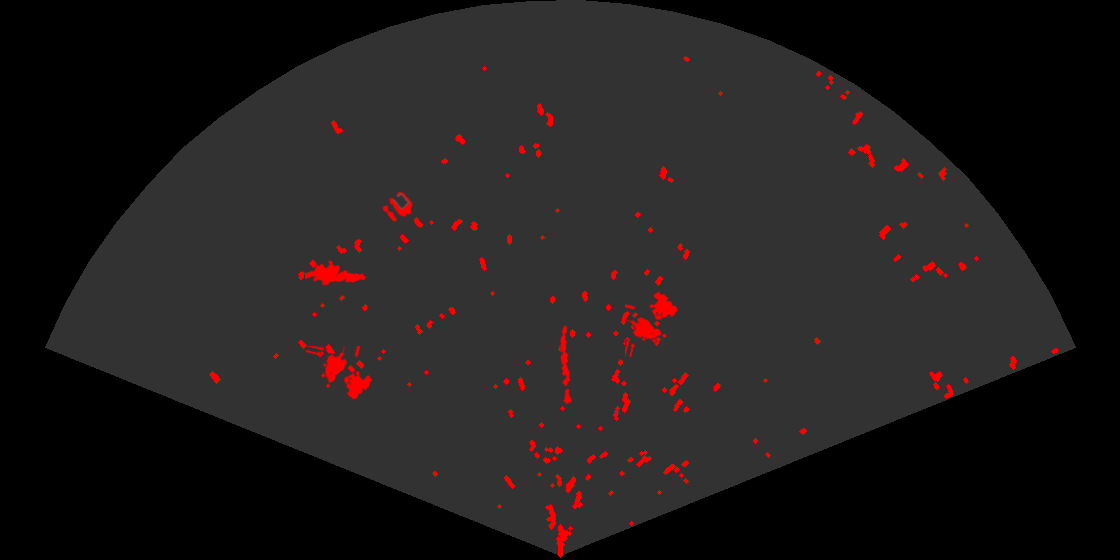ball: (381, 190, 414, 224)
cage: (306, 346, 374, 401), (625, 290, 680, 357)
chain: (558, 323, 573, 405)
frogman: (305, 259, 367, 287)
